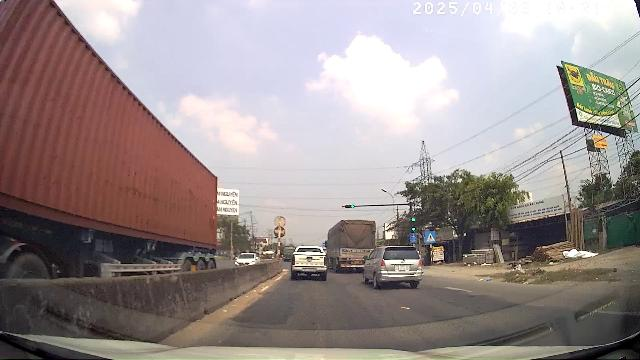423a-duong-nguoi-di-bo-sang-ngang-1: (424, 232, 436, 242)
